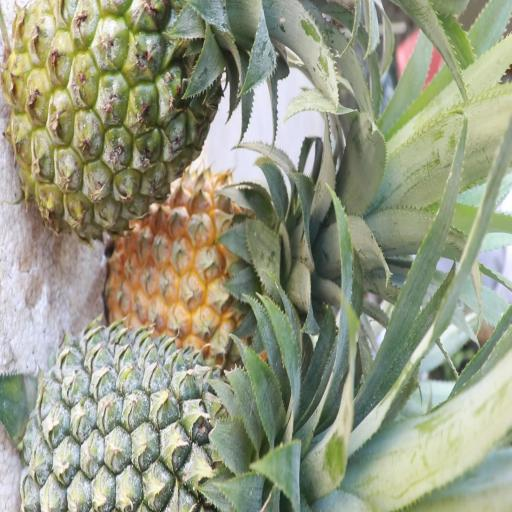------------------------------: (10, 0, 236, 232)
Pineapple - v8 v1: (104, 163, 302, 360)
